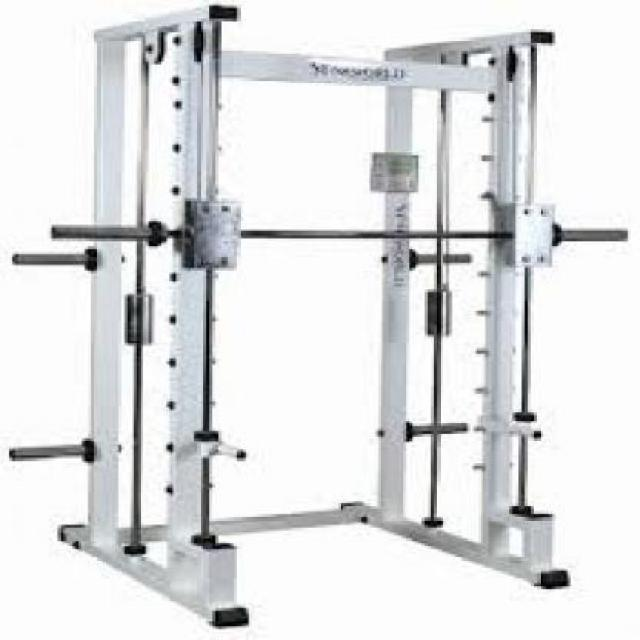smith machine: (11, 5, 574, 629)
